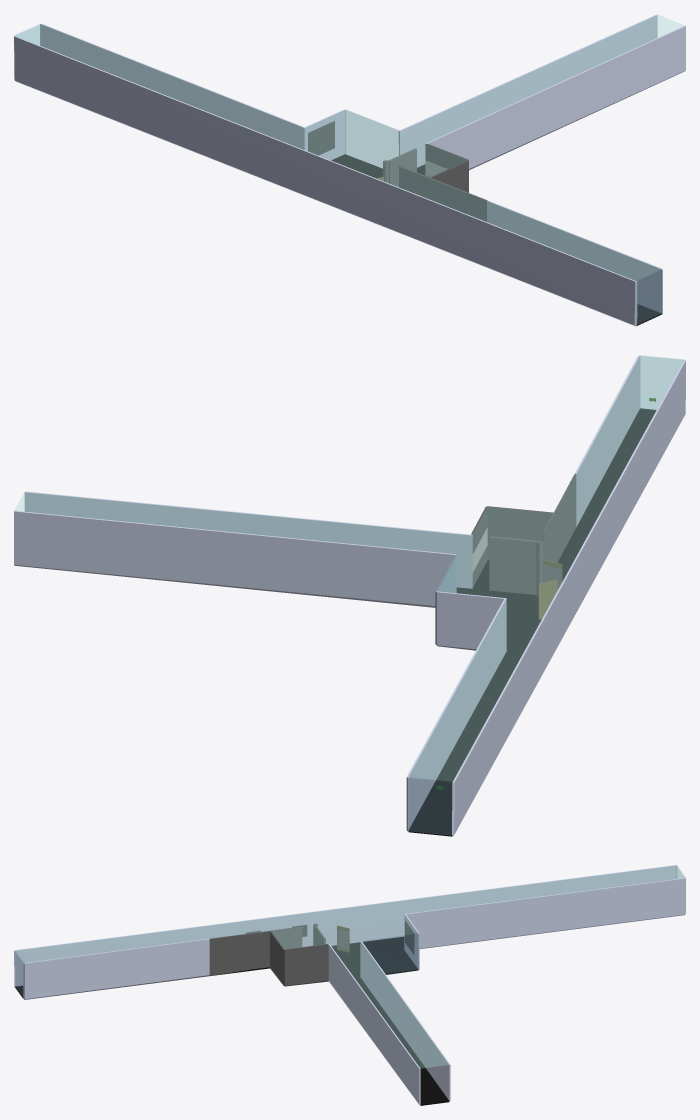
Rendered from inue-all.glb.
3 views of the same model, one above another, from view 1: azimuth 30°, elevation 25°; view 2: azimuth 150°, elevation 25°; view 3: azimuth 270°, elevation 25° (orthographic). The views are drawn at different scales.
Visible parts, largest first — view 1: plasterboard, ceiling, concretewalls, lobbyglass, northernwall, floor, alumniwall, KNSW, KWEW; view 2: plasterboard, ceiling, floor, concretewalls, KWEW, southernwall, northernwall; view 3: plasterboard, ceiling, concretewalls, floor, lobbyglass, KNSW.
Part boxes in pixels (x1,y1,x2,y2): plasterboard: [14, 14, 685, 326]; ceiling: [16, 15, 683, 280]; concretewalls: [425, 143, 487, 221]; lobbyglass: [346, 110, 398, 167]; northernwall: [637, 269, 661, 324]; floor: [331, 154, 662, 326]; alumniwall: [308, 121, 334, 155]; KNSW: [399, 166, 429, 198]; KWEW: [388, 148, 416, 186]; plasterboard: [14, 355, 685, 836]; ceiling: [15, 356, 683, 781]; floor: [408, 408, 656, 836]; concretewalls: [471, 474, 576, 586]; KWEW: [489, 536, 536, 594]; southernwall: [408, 777, 452, 835]; northernwall: [640, 355, 683, 409]; plasterboard: [14, 865, 685, 1105]; ceiling: [16, 865, 684, 1068]; concretewalls: [209, 930, 328, 986]; floor: [14, 936, 449, 1105]; lobbyglass: [362, 934, 418, 974]; KNSW: [271, 926, 302, 949].
Bounding box in the file's own units: 36.03 × 3.09 × 50.17.
